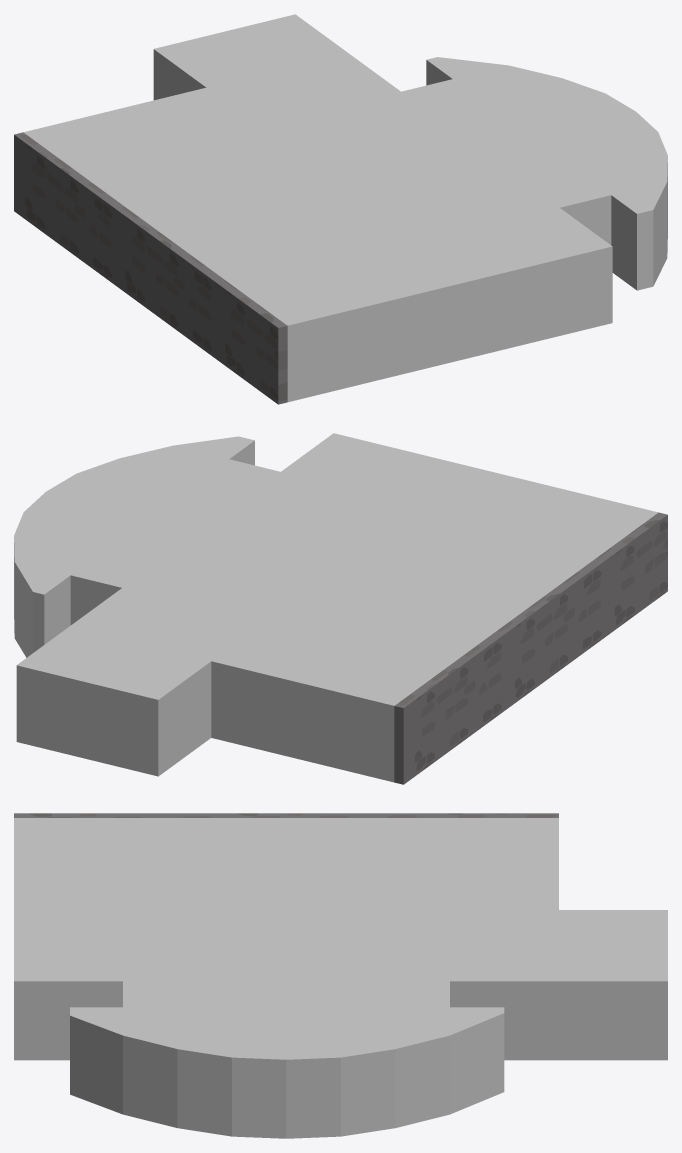
Rendered from module_escenari.fbx.
The picture shows the model from 3 angles, top to bottom: view 1: azimuth 30°, elevation 25°; view 2: azimuth 150°, elevation 25°; view 3: azimuth 270°, elevation 25°; orthographic projection. The views are drawn at different scales.
Visible parts, largest first — view 1: Cube, Cube.004; view 2: Cube, Cube.004; view 3: Cube, Cube.004.
Part boxes in pixels (x1,y1,x2,y2): Cube: (24, 14, 667, 402); Cube.004: (14, 132, 287, 404); Cube: (14, 433, 658, 782); Cube.004: (394, 512, 667, 784); Cube: (14, 818, 667, 1138); Cube.004: (14, 813, 558, 817).
Size of the model in its own units: 10.71 by 1.6 by 12.
